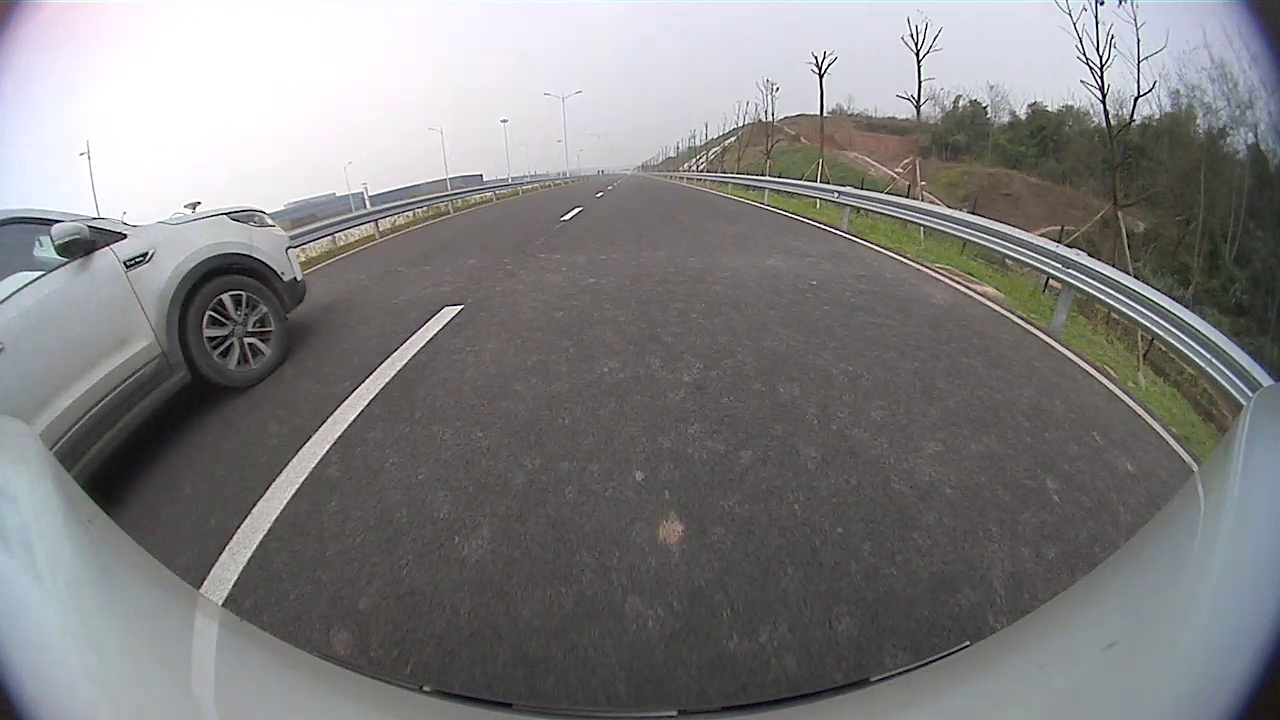car: (1, 203, 309, 562)
front: (179, 273, 291, 391)
